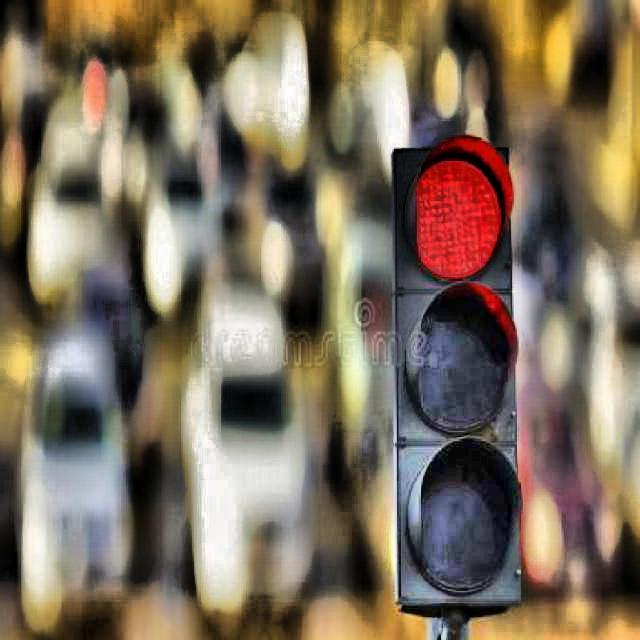red: (385, 140, 531, 613)
